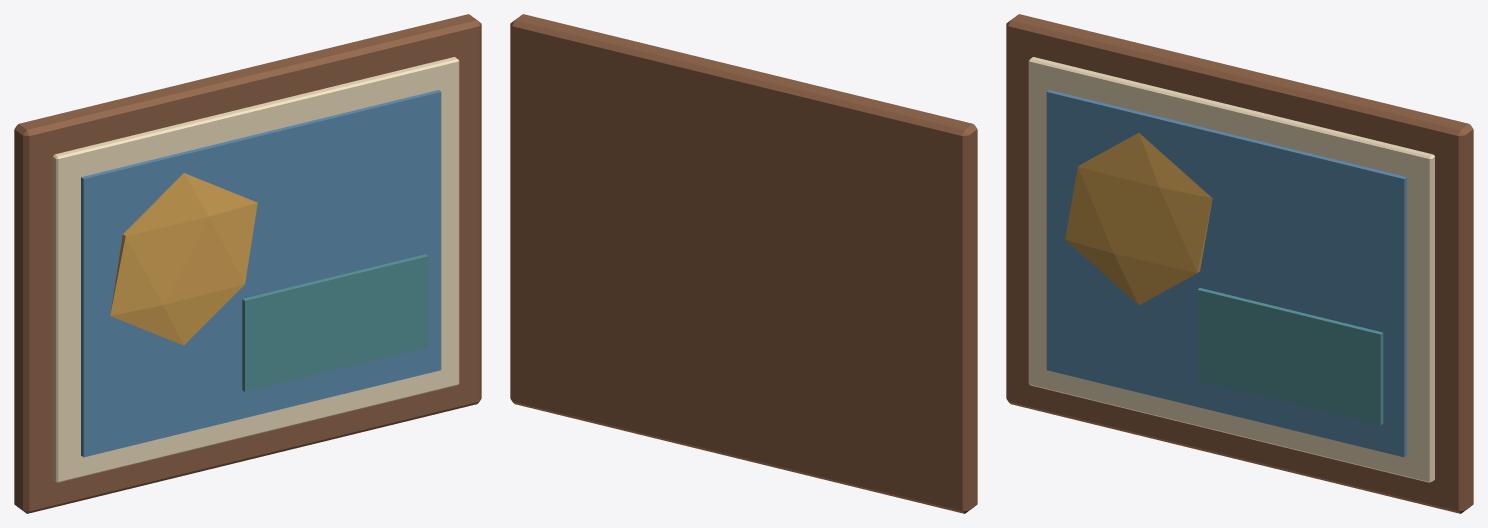
The model's file is SM_CH_Paper_Frame.fbx.
3 renders of one model, left to right at view 1: azimuth 30°, elevation 25°; view 2: azimuth 150°, elevation 25°; view 3: azimuth 330°, elevation 25°, orthographic.
Parts seen in each view (by area): view 1: SM_CH_Paper_Frame; view 2: SM_CH_Paper_Frame; view 3: SM_CH_Paper_Frame.
Boxes of the visible parts, left/top/right/bottom form: SM_CH_Paper_Frame: left=14, top=14, right=481, bottom=513; SM_CH_Paper_Frame: left=510, top=14, right=977, bottom=513; SM_CH_Paper_Frame: left=1006, top=14, right=1473, bottom=513.
Size of the model in its own units: 10000 by 1035 by 8000.
